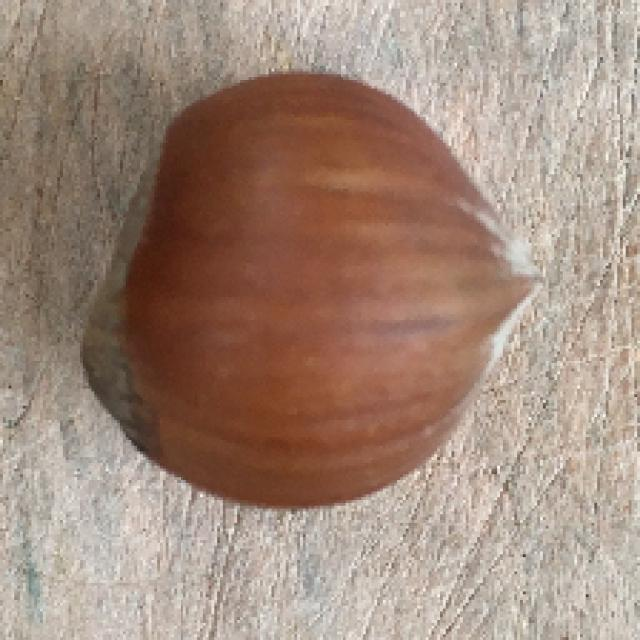damagedHazelnut: (74, 64, 546, 516)
